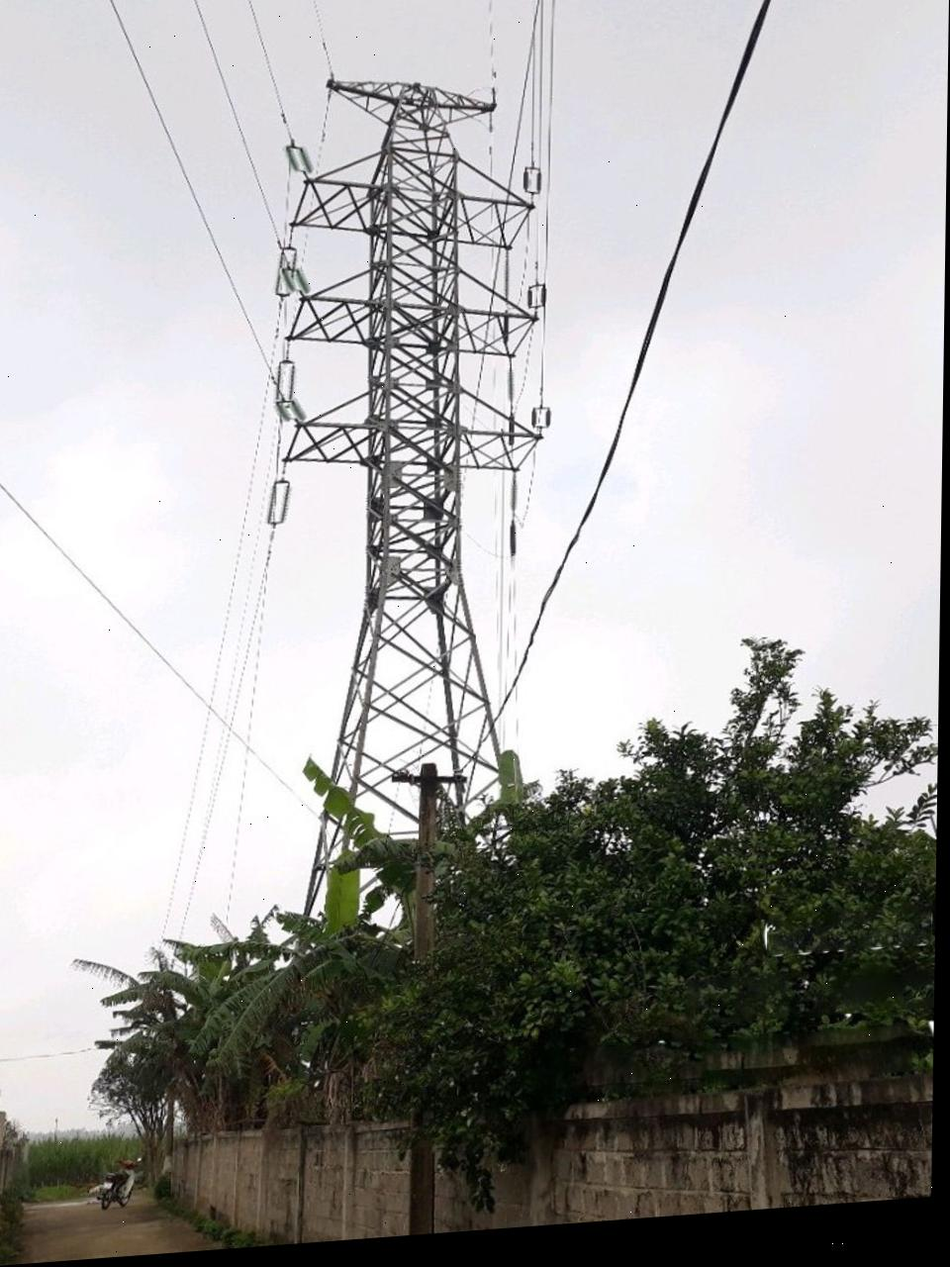tower: (243, 43, 566, 1132)
